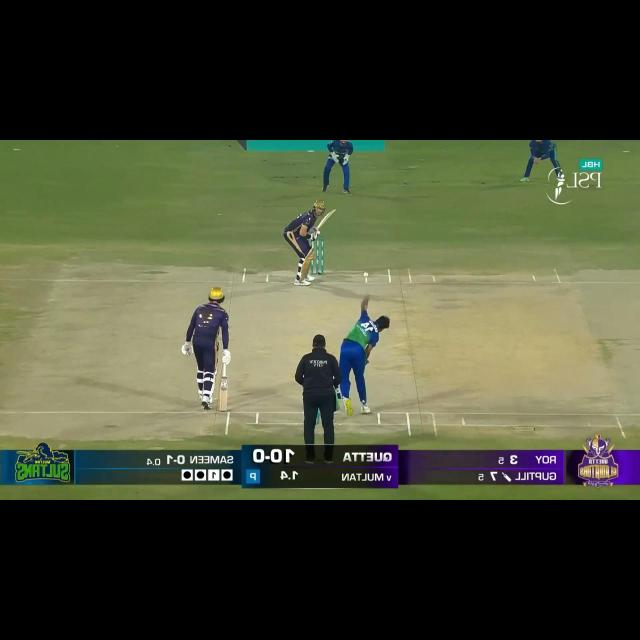bat: (315, 206, 337, 231), (218, 373, 228, 412)
toe: (217, 406, 229, 413), (328, 207, 337, 215)
